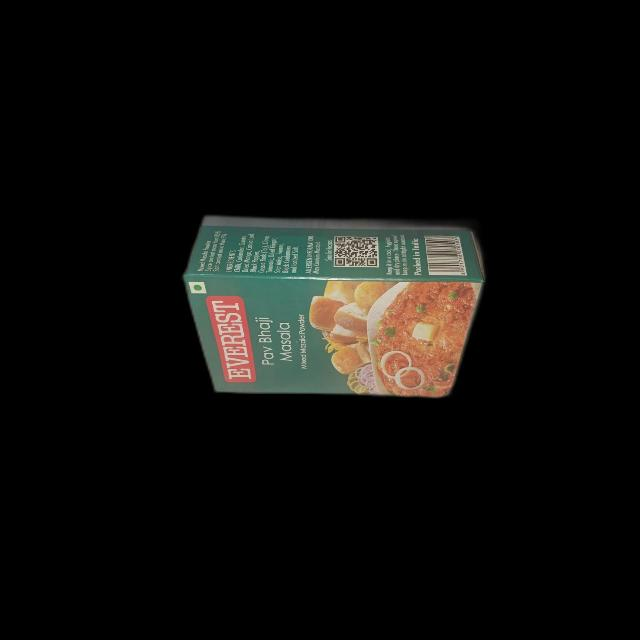Everest Pav Bhaji Masala 100 g: (182, 210, 484, 404)
